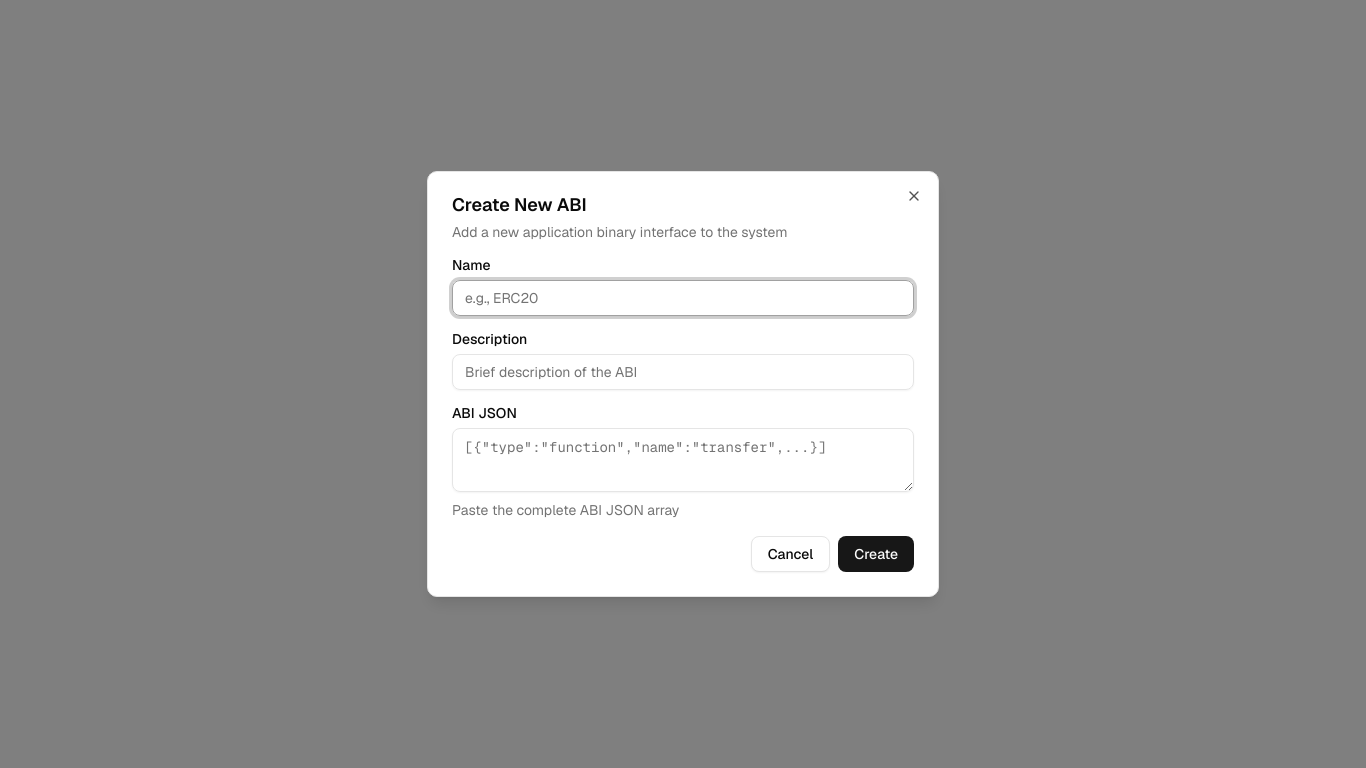
Test: AbiFormDialog › Create mode › shows validation error for invalid JSON
Type "Test ABI" into the field labelled "Name" at (683,298), box [452,280,914,316]
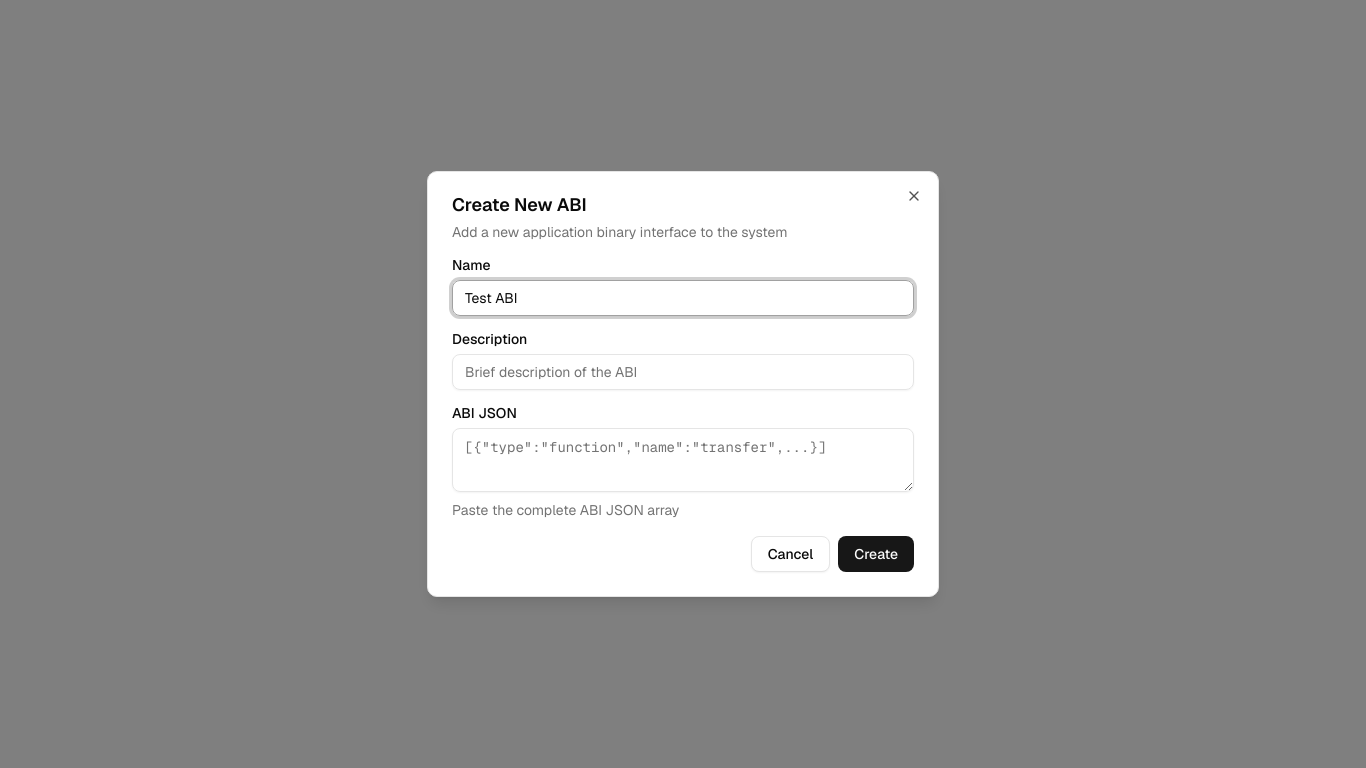
Click the text box labelled "ABI JSON" at (683,460), box [452,428,914,492]
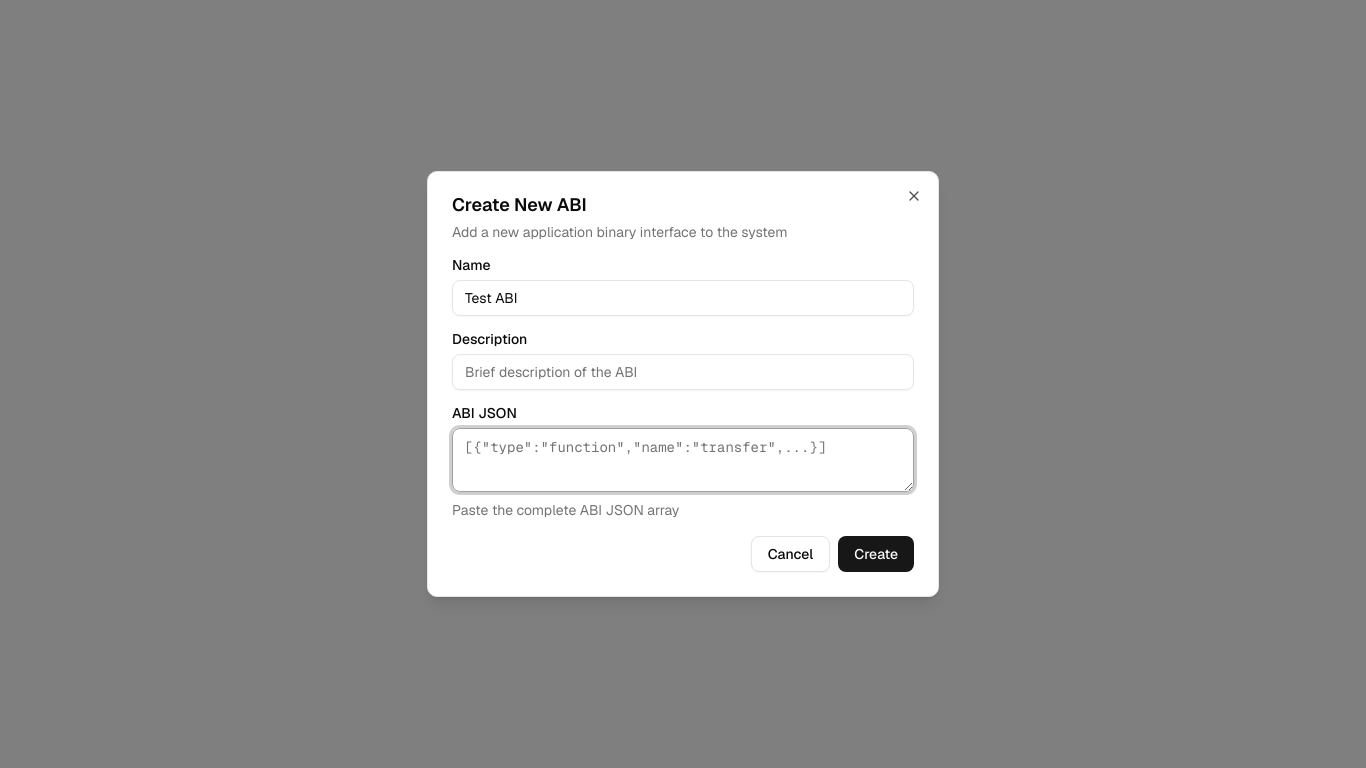
Type keys "invalid json"
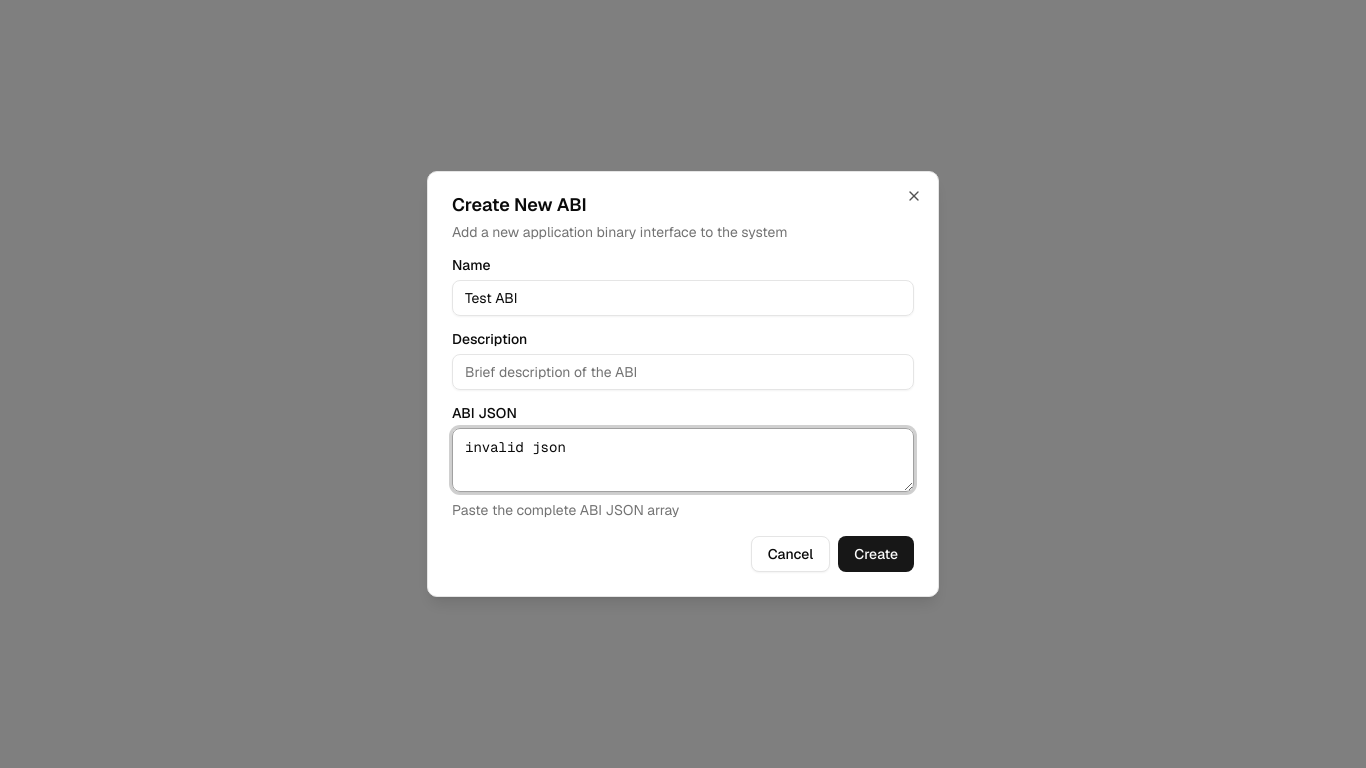
Click the button "Create" at (876,554), box [838,536,914,572]
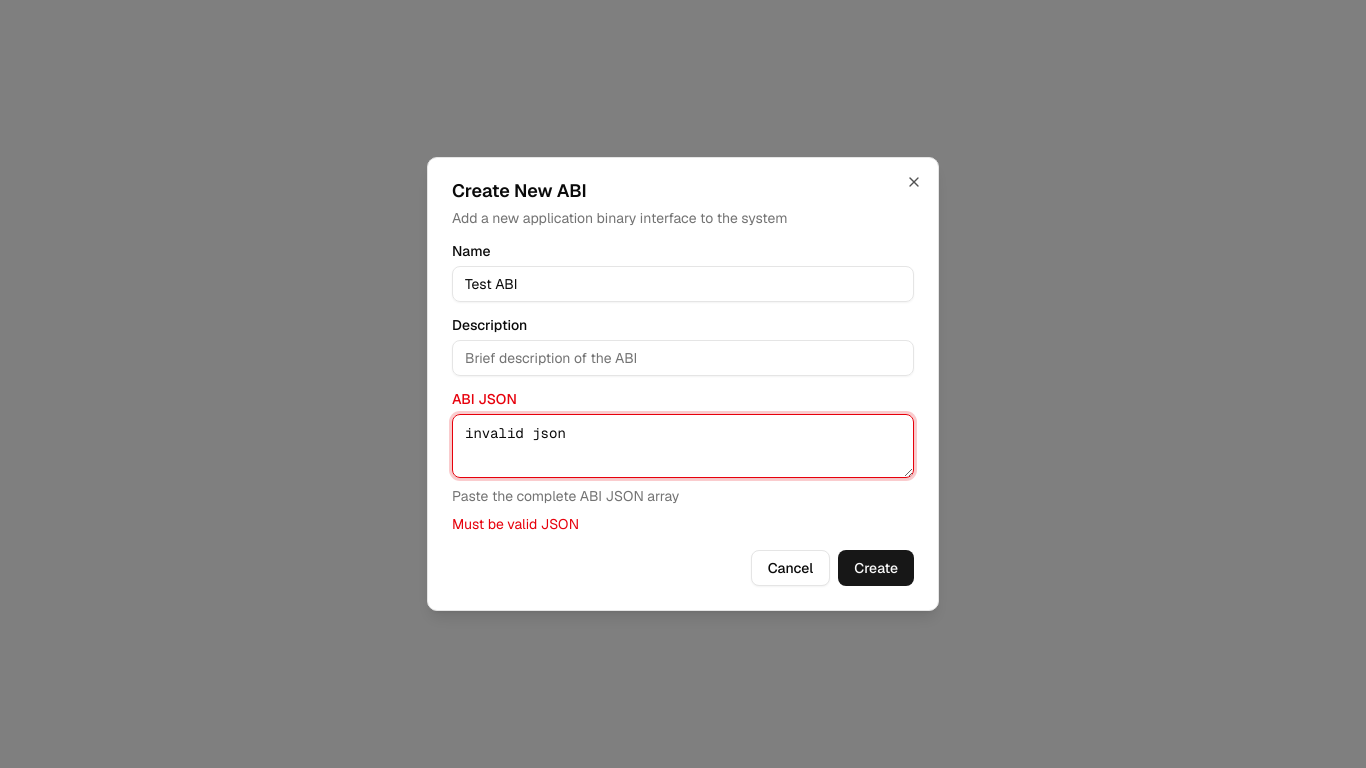
Expected: the text "Must be valid JSON" is shown, [452,515,579,533]
